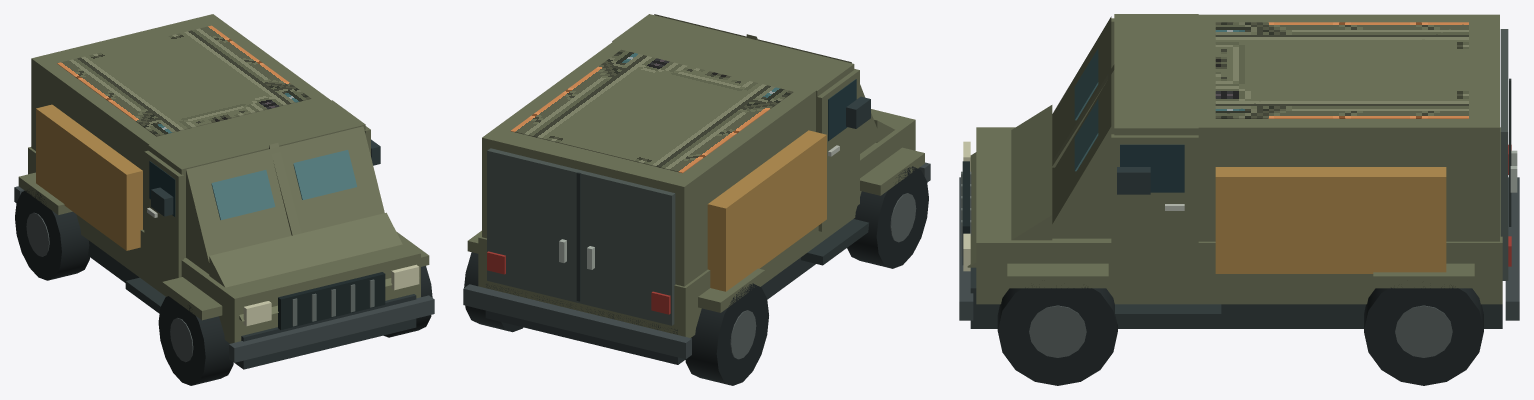
Rendered from CMU3DReduxVehicleSPPVanLogistics.glb.
The picture shows the model from 3 angles, left to right: view 1: azimuth 30°, elevation 25°; view 2: azimuth 150°, elevation 25°; view 3: azimuth 270°, elevation 25°; orthographic projection. The views are drawn at different scales.
Parts seen in each view (by area): view 1: source roof livery, sloping cab frame, enclosed rear body, armored side storage, lower vehicle body, rubber road tire (×3), front hood, cab bulkhead, armored vision window (×2), bumper, cab door skin, sealed chassis (+8 smaller); view 2: rear double doors, source roof livery, enclosed rear body, armored side storage, rubber road tire (×3), cab bulkhead, lower vehicle body, bumper, cab door skin, wheel fender (×2), sealed chassis, recessed metal wheel hub (×2) (+5 smaller); view 3: enclosed rear body, armored side storage, source roof livery, lower vehicle body, rubber road tire (×2), cab door skin, cab bulkhead, sloping cab frame, front hood, sealed chassis, recessed metal wheel hub (×2), wheel fender (×2) (+8 smaller).
Part boxes in pixels (box(x1,y1,x2,y2)): source roof livery: box(57, 25, 311, 136); sloping cab frame: box(186, 126, 384, 276); enclosed rear body: box(31, 14, 330, 229); armored side storage: box(36, 104, 142, 250); lower vehicle body: box(28, 147, 420, 343); rubber road tire (×3): box(15, 190, 432, 385); front hood: box(209, 212, 402, 321); cab bulkhead: box(148, 100, 365, 258); armored vision window (×2): box(211, 150, 357, 219); bumper: box(229, 295, 434, 362); cab door skin: box(144, 150, 183, 284); sealed chassis: box(88, 240, 416, 369); rear double doors: box(487, 148, 675, 325); source roof livery: box(511, 49, 793, 173); enclosed rear body: box(482, 41, 820, 286); armored side storage: box(707, 130, 826, 291); rubber road tire (×3): box(464, 166, 928, 385); cab bulkhead: box(612, 14, 854, 131); lower vehicle body: box(478, 109, 915, 337); bumper: box(463, 284, 691, 359); cab door skin: box(816, 69, 859, 231); wheel fender (×2): box(698, 147, 924, 312); sealed chassis: box(485, 257, 815, 364); recessed metal wheel hub (×2): box(730, 193, 916, 359); enclosed rear body: box(1184, 14, 1499, 241); armored side storage: box(1215, 167, 1446, 273); source roof livery: box(1215, 22, 1468, 118); lower vehicle body: box(976, 127, 1502, 304); rubber road tire (×2): box(997, 285, 1483, 385); cab door skin: box(1111, 134, 1198, 290); cab bulkhead: box(1114, 14, 1198, 135); sloping cab frame: box(1044, 16, 1111, 238); front hood: box(967, 105, 1052, 267); sealed chassis: box(970, 267, 1502, 328); recessed metal wheel hub (×2): box(1029, 305, 1452, 357); wheel fender (×2): box(1007, 263, 1474, 288).
Size of the model in its own units: 1.79 by 1.46 by 2.99.
Materials: 20 (1 with a texture image).
